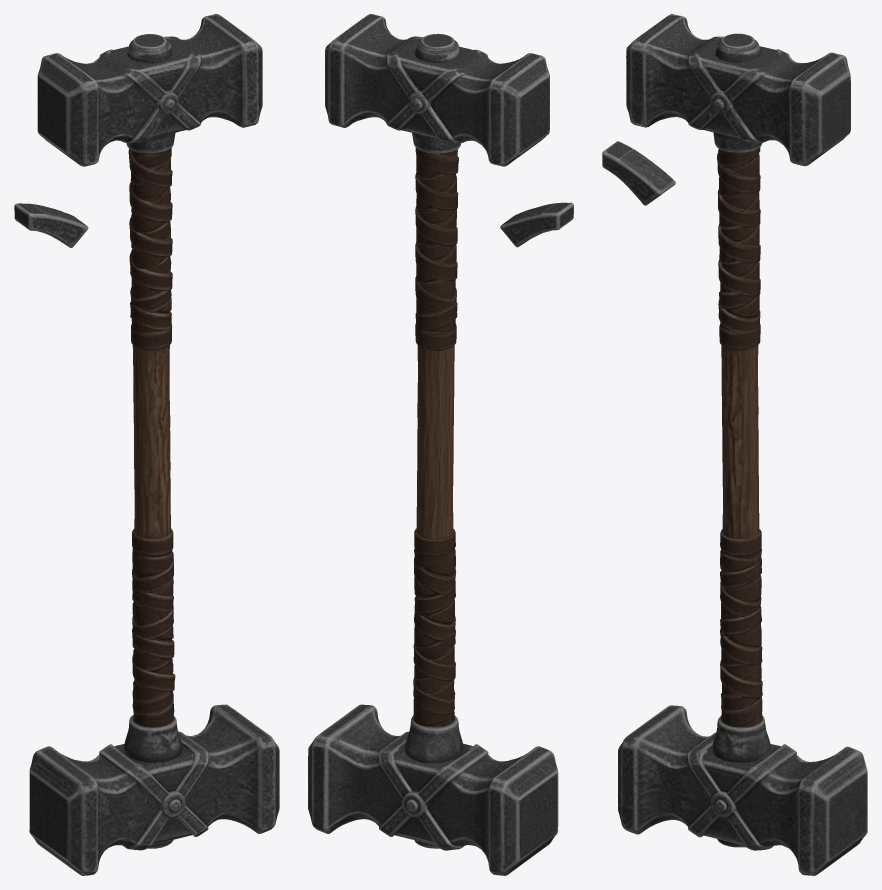
The model's file is kladivo.glb.
3 views of the same model, side by side, from view 1: azimuth 30°, elevation 25°; view 2: azimuth 150°, elevation 25°; view 3: azimuth 330°, elevation 25° (orthographic).
Parts seen in each view (by area): view 1: Mesh_0; view 2: Mesh_0; view 3: Mesh_0.
Part boxes in pixels (<box>): Mesh_0: <box>14,14,279,875</box>; Mesh_0: <box>308,14,573,875</box>; Mesh_0: <box>602,14,867,875</box>.
Size of the model in its own units: 0.3597 by 1.15 by 0.1358.
Materials: 1 (1 with a texture image).
